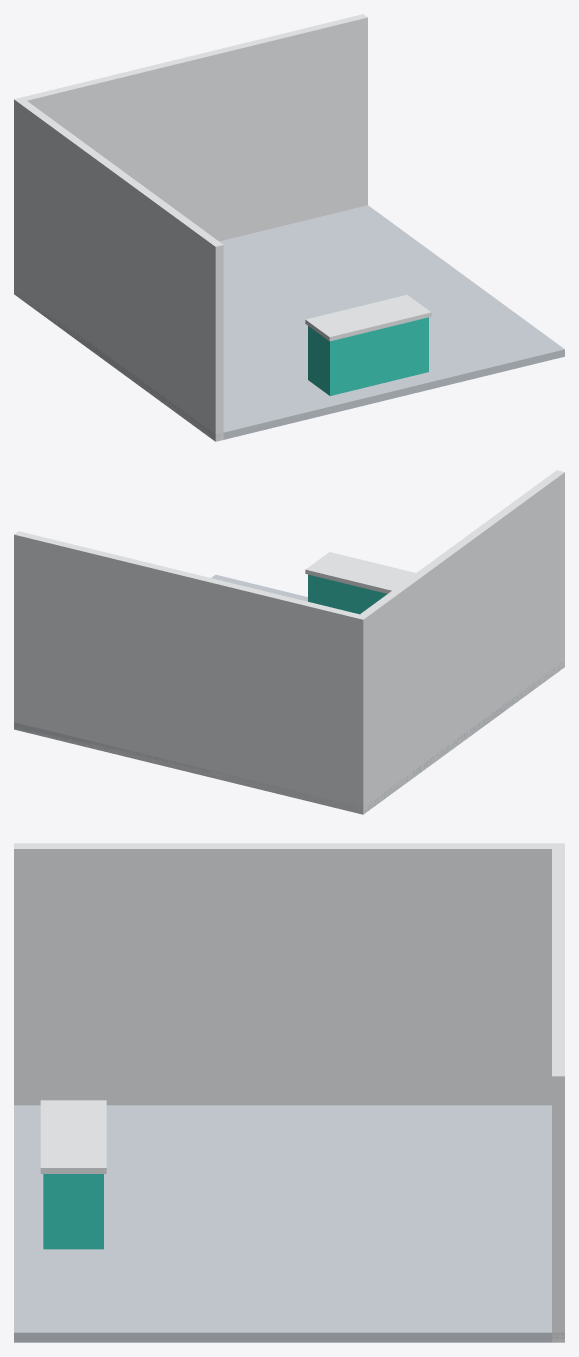
3 renders of one model, top to bottom at view 1: azimuth 30°, elevation 25°; view 2: azimuth 150°, elevation 25°; view 3: azimuth 270°, elevation 25°, orthographic. The views are drawn at different scales.
Visible parts, largest first — view 1: Exhibition Booth Concept; view 2: Exhibition Booth Concept; view 3: Exhibition Booth Concept.
Boxes of the visible parts, x1,y1,x2,y2 form: Exhibition Booth Concept: (14, 14, 564, 441); Exhibition Booth Concept: (14, 470, 564, 814); Exhibition Booth Concept: (14, 843, 564, 1342).
Bounding box in the file's own units: 6 × 3.2 × 6.
